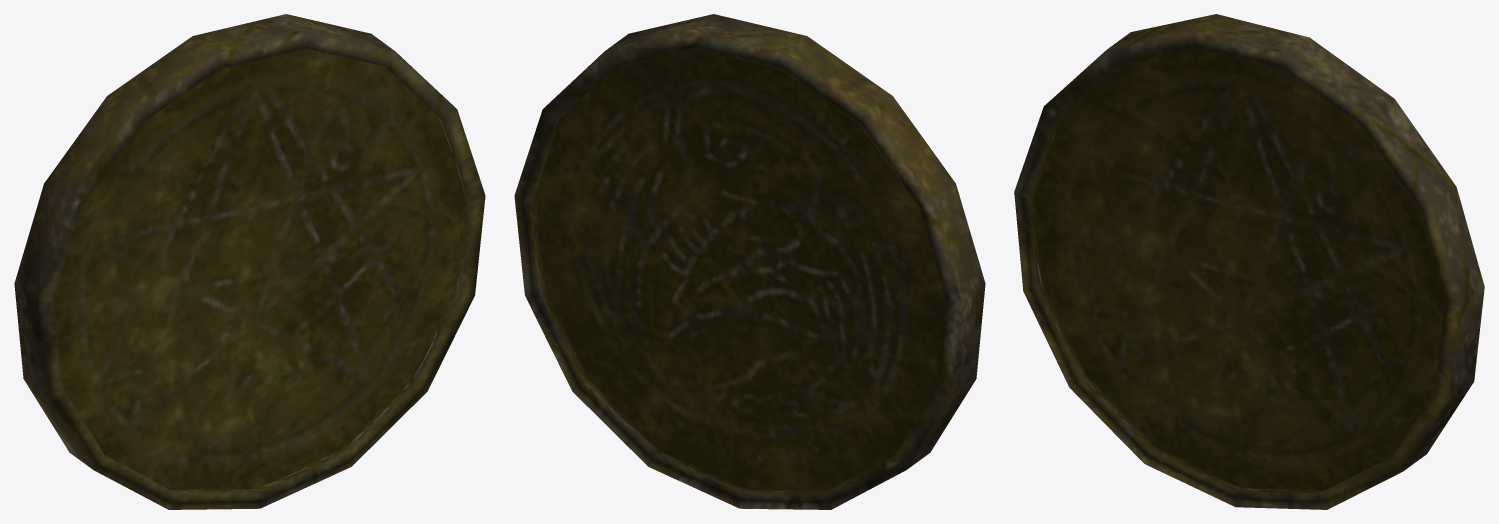
3 renders of one model, left to right at view 1: azimuth 30°, elevation 25°; view 2: azimuth 150°, elevation 25°; view 3: azimuth 330°, elevation 25°, orthographic.
Parts seen in each view (by area): view 1: lp; view 2: lp; view 3: lp.
Boxes of the visible parts, x1,y1,x2,y2 form: lp: (14, 14, 485, 509); lp: (514, 14, 985, 509); lp: (1014, 14, 1484, 509).
Size of the model in its own units: 5.76 by 5.73 by 0.5357.
Materials: 1 (1 with a texture image).
